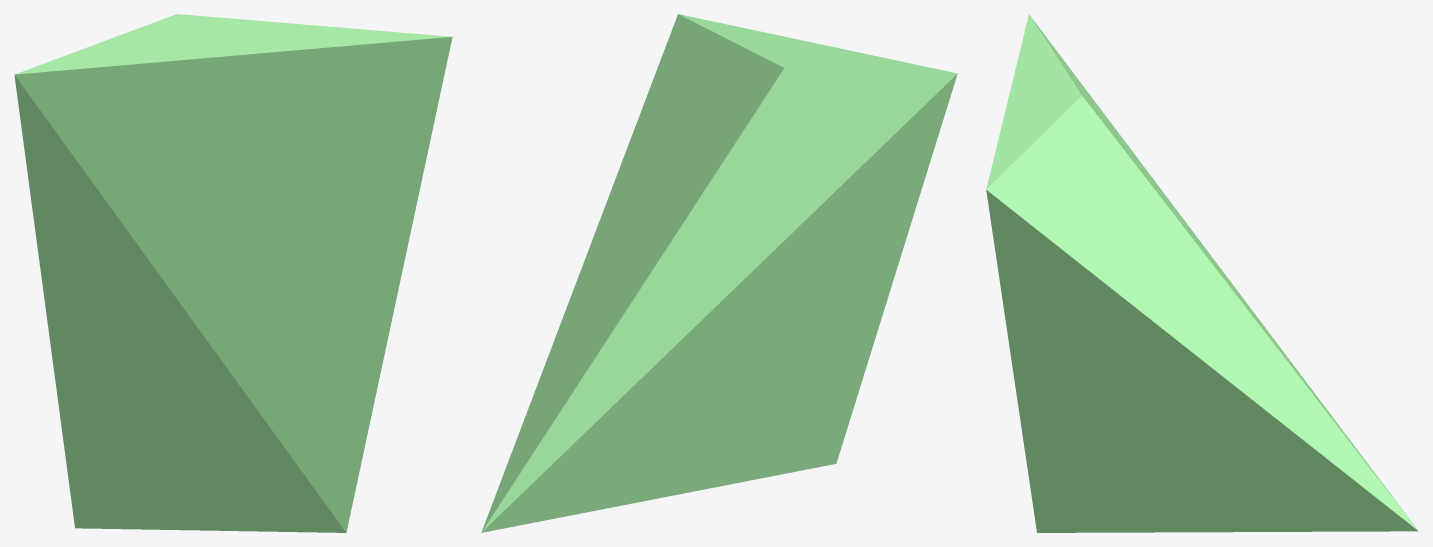
File: UMIRobot_UMIRobot_link_5_convex_coll_71.dae
3 views of the same model, side by side, from view 1: azimuth 30°, elevation 25°; view 2: azimuth 150°, elevation 25°; view 3: azimuth 270°, elevation 25° (orthographic). The views are drawn at different scales.
Visible parts, largest first — view 1: node; view 2: node; view 3: node.
Part boxes in pixels (bbox=[...]): node: bbox=[14, 14, 452, 532]; node: bbox=[481, 14, 957, 532]; node: bbox=[986, 14, 1418, 532].
Bounding box in the file's own units: 0.00356 × 0.00452 × 0.00445.
